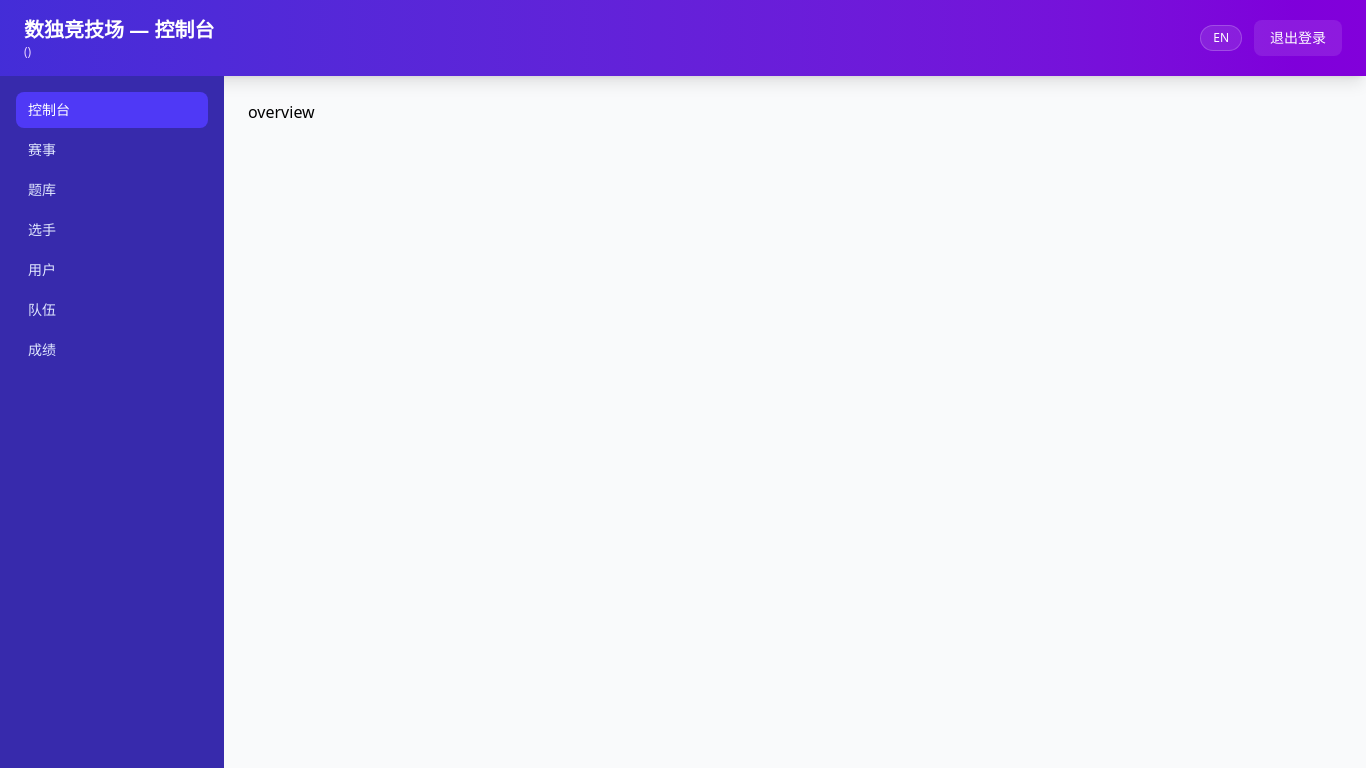
Test case: DashboardLayout › navigates to puzzle-bank when its nav link is clicked
This screenshot has width=1366, height=768.
Expected: the text "overview" is shown, [248,101,315,123]
Click the link "题库": [42, 190] box [28,180,56,199]
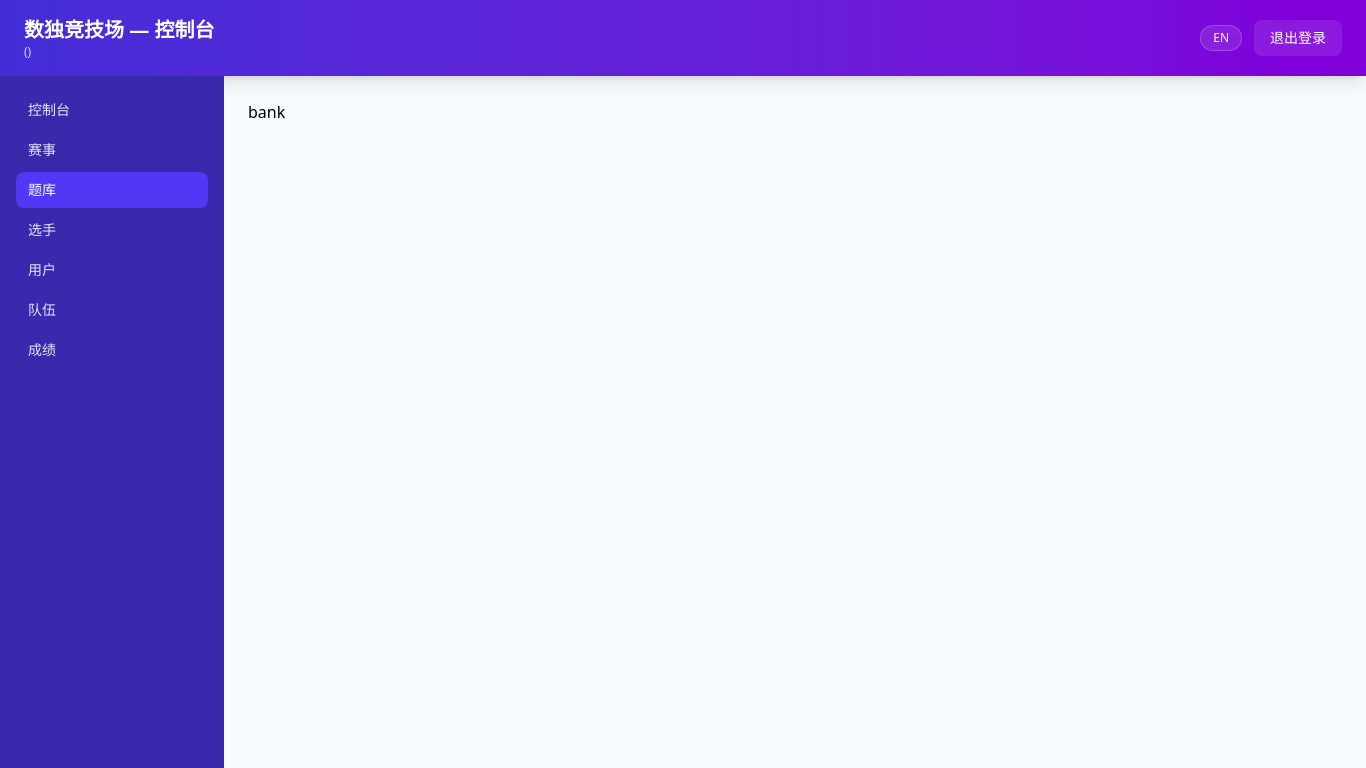
Expected: the text "bank" is shown, [248,101,285,123]
